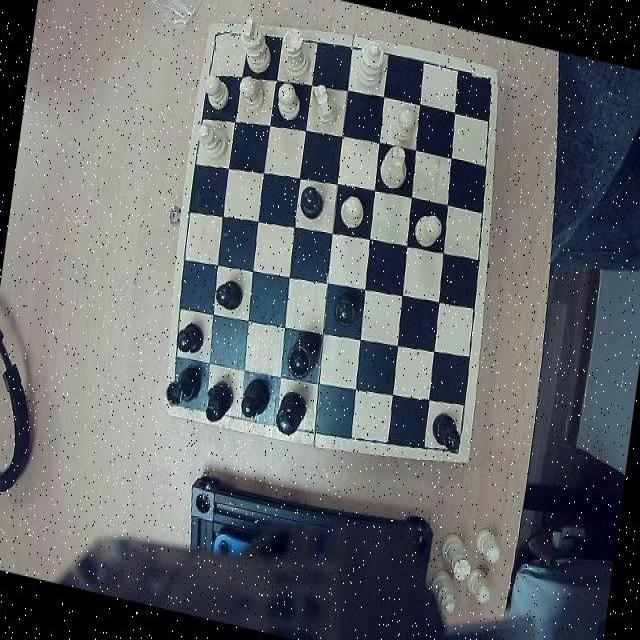chess-table-corners: (435, 426, 469, 462), (164, 382, 198, 417), (469, 66, 501, 101), (207, 20, 234, 52)
